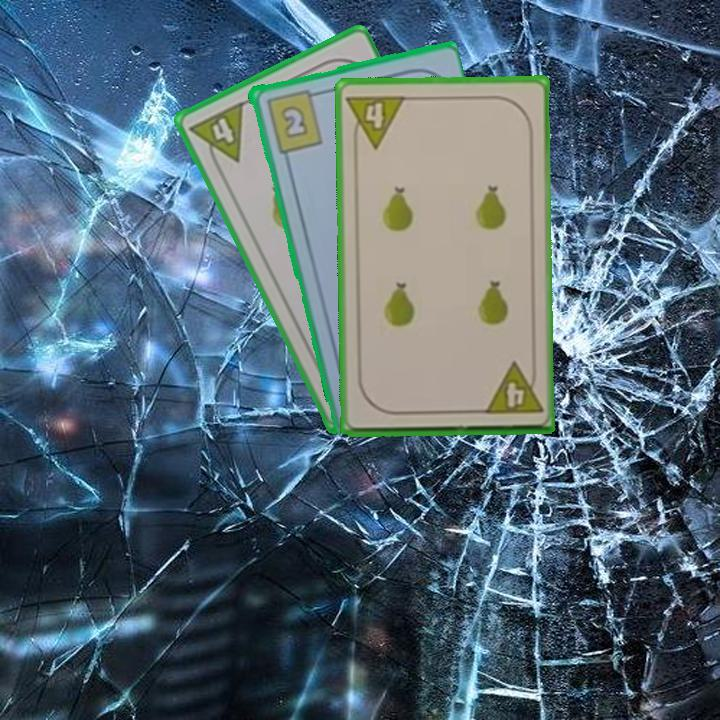2b: (262, 85, 325, 155)
4p: (186, 98, 246, 174), (343, 91, 408, 151), (480, 359, 545, 417)
